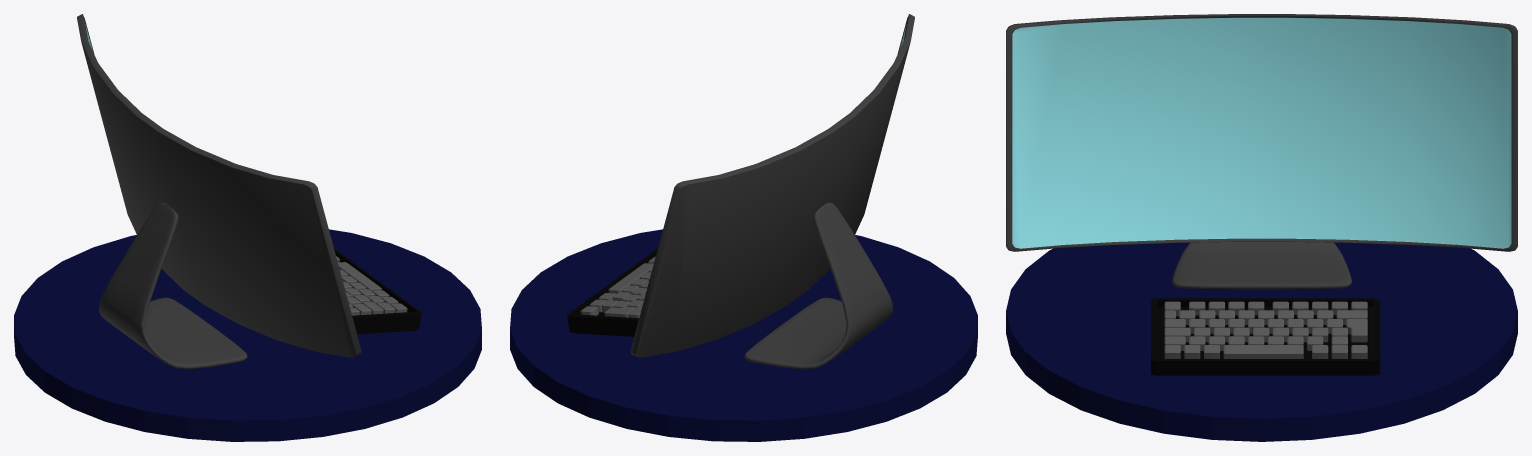
The model's file is Monitor.glb.
The picture shows the model from 3 angles, left to right: view 1: azimuth 30°, elevation 25°; view 2: azimuth 150°, elevation 25°; view 3: azimuth 270°, elevation 25°; orthographic projection. The views are drawn at different scales.
Parts seen in each view (by area): view 1: Cylinder, Plane.002, Plane, Plane.001, Cube; view 2: Cylinder, Plane.002, Plane, Plane.001, Cube; view 3: Plane.002, Cylinder, Plane.001, Plane, Cube.
Part boxes in pixels (x1,y1,x2,y2): Cylinder: (14, 229, 481, 441); Plane.002: (77, 14, 361, 357); Plane: (99, 202, 247, 369); Plane.001: (336, 256, 407, 315); Cube: (334, 248, 421, 334); Cylinder: (510, 229, 977, 441); Plane.002: (630, 14, 914, 357); Plane: (744, 202, 892, 369); Plane.001: (580, 256, 655, 318); Cube: (567, 248, 657, 336); Plane.002: (1006, 14, 1517, 251); Cylinder: (1006, 242, 1517, 441); Plane.001: (1164, 301, 1367, 358); Plane: (1172, 242, 1351, 289); Cube: (1151, 298, 1380, 375).
Bounding box in the file's own units: 4 × 2.45 × 4.
